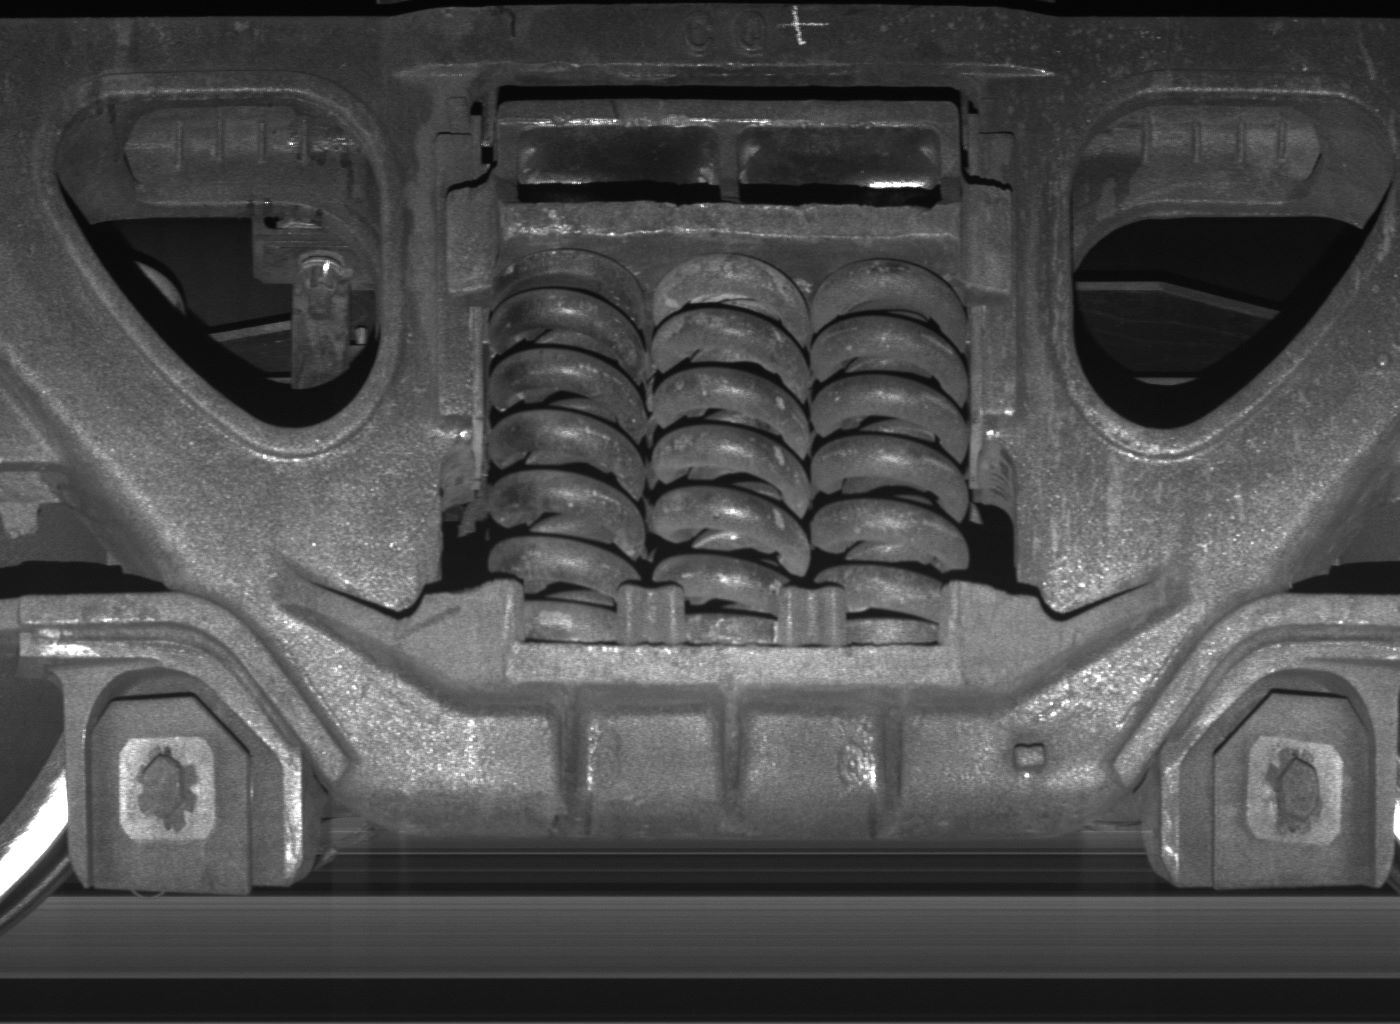normal: (66, 667, 300, 894), (1162, 670, 1397, 891)
